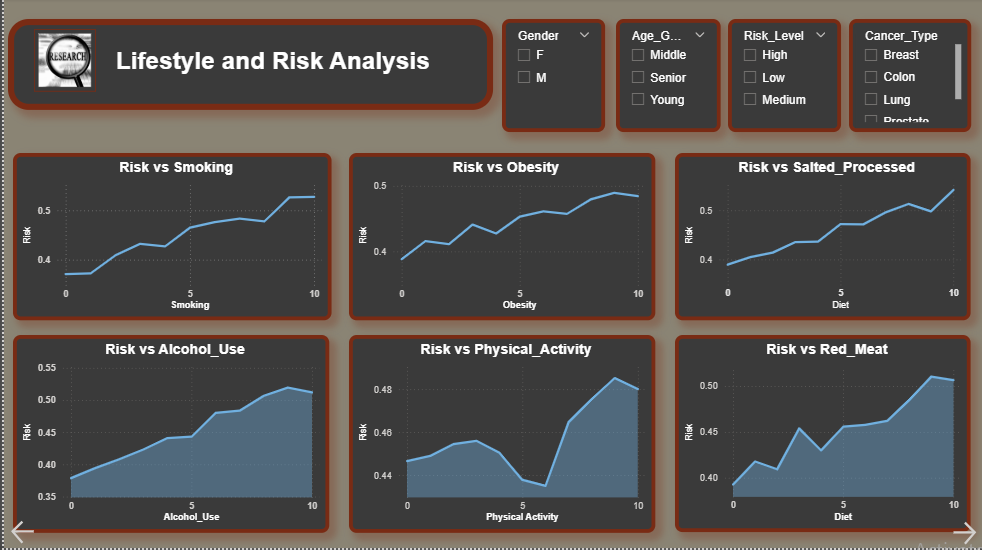

This screenshot's page, from the dashboard's own definition file:
{"tool":"powerbi","page":{"name":"Page 2","canvas":[1280,720],"ordinal":1},"visuals":[{"type":"lineChart","title":" Risk vs Smoking","fields":{"Category":["cancer-risk-factors.Smoking"],"Y":["Avg(cancer-risk-factors.Overall_Risk)"]},"box":[11.8,202.8,417.3,218.9],"z":0},{"type":"areaChart","title":"Risk vs Alcohol_Use","fields":{"Category":["cancer-risk-factors.Alcohol_Use"],"Y":["Avg(cancer-risk-factors.Overall_Risk)"]},"box":[11.8,440.8,414.4,258.6],"z":1000},{"type":"areaChart","title":"Risk vs Physical_Activity","fields":{"Category":["cancer-risk-factors.Physical_Activity"],"Y":["Avg(cancer-risk-factors.Overall_Risk)"]},"box":[451.1,440.8,401.1,258.6],"z":2000},{"type":"lineChart","title":"Risk vs Salted_Processed","fields":{"Category":["cancer-risk-factors.Diet_Salted_Processed"],"Y":["Avg(cancer-risk-factors.Overall_Risk)"]},"box":[878.4,202.9,387.5,218.6],"z":3000},{"type":"areaChart","title":"Risk vs Red_Meat","fields":{"Category":["cancer-risk-factors.Diet_Red_Meat"],"Y":["Avg(cancer-risk-factors.Overall_Risk)"]},"box":[878.4,441.2,387.5,257.9],"z":4000},{"type":"slicer","fields":{"Values":["cancer-risk-factors.Gender"]},"box":[652.4,27.9,135.2,148.4],"z":5000},{"type":"slicer","fields":{"Values":["cancer-risk-factors.Age_Group"]},"box":[800.8,27.9,136.7,148.4],"z":6000},{"type":"lineChart","title":" Risk vs Obesity","fields":{"Category":["cancer-risk-factors.Obesity"],"Y":["Avg(cancer-risk-factors.Overall_Risk)"]},"box":[451.1,202.8,401.1,218.9],"z":7000},{"type":"slicer","fields":{"Values":["cancer-risk-factors.Cancer_Type"]},"box":[1106.4,27.9,160.2,148.4],"z":8000},{"type":"slicer","fields":{"Values":["cancer-risk-factors.Risk_Level"]},"box":[947.8,27.9,148.4,148.4],"z":9000},{"type":"textbox","box":[5.9,27.9,634.8,119],"z":10000},{"type":"image","box":[39.7,41.1,80.8,82.3],"z":11000},{"type":"actionButton","box":[5.9,678.9,44.1,39.7],"z":12000},{"type":"actionButton","box":[1237.2,680.3,42.6,39.7],"z":13000}]}

Visuals, with their boxes in screenshot pixels (x1, y1, x2, y2), scaled from the page's 1280x720 canvas onto the 982x550 screenshot:
" Risk vs Smoking" lineChart: l=9, t=155, r=329, b=322
"Risk vs Alcohol_Use" areaChart: l=9, t=337, r=327, b=534
"Risk vs Physical_Activity" areaChart: l=346, t=337, r=654, b=534
"Risk vs Salted_Processed" lineChart: l=674, t=155, r=971, b=322
"Risk vs Red_Meat" areaChart: l=674, t=337, r=971, b=534
slicer - cancer-risk-factors.Gender: l=501, t=21, r=604, b=135
slicer - cancer-risk-factors.Age_Group: l=614, t=21, r=719, b=135
" Risk vs Obesity" lineChart: l=346, t=155, r=654, b=322
slicer - cancer-risk-factors.Cancer_Type: l=849, t=21, r=972, b=135
slicer - cancer-risk-factors.Risk_Level: l=727, t=21, r=841, b=135
textbox: l=5, t=21, r=492, b=112
image: l=30, t=31, r=92, b=94
actionButton: l=5, t=519, r=38, b=549
actionButton: l=949, t=520, r=981, b=549
